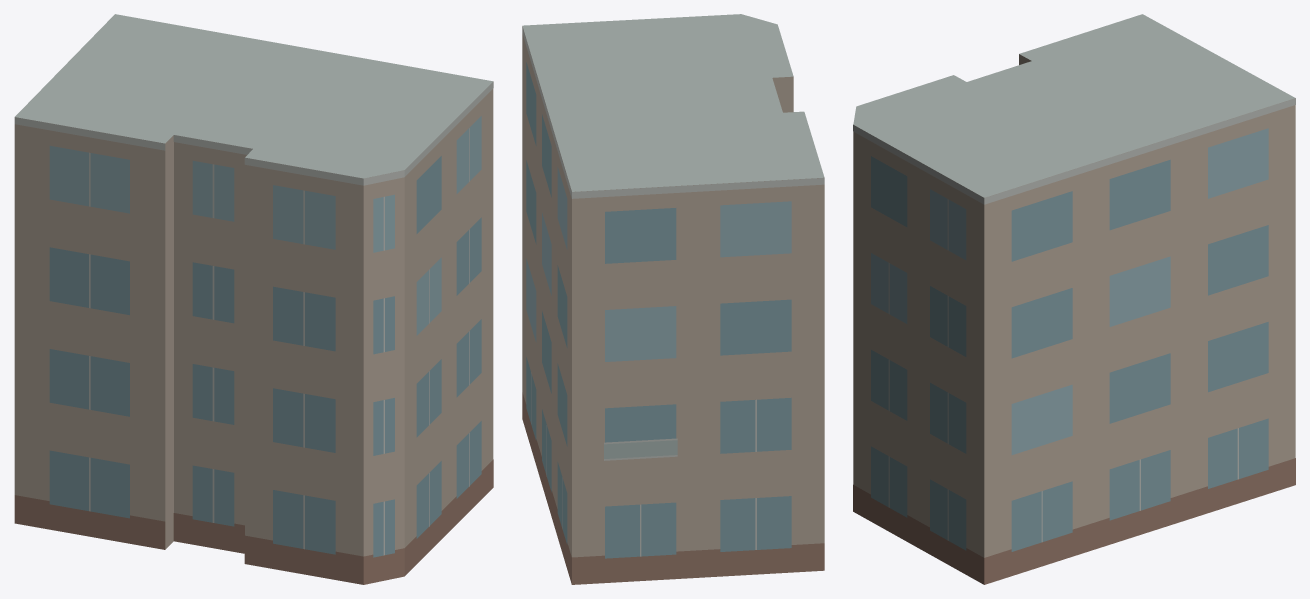
The model's file is survey-upis-32827812.glb.
The picture shows the model from 3 angles, left to right: view 1: azimuth 30°, elevation 25°; view 2: azimuth 150°, elevation 25°; view 3: azimuth 270°, elevation 25°; orthographic projection. The views are drawn at different scales.
Visible parts, largest first — view 1: survey-upis-32827812.tmp; view 2: survey-upis-32827812.tmp; view 3: survey-upis-32827812.tmp.
Boxes of the visible parts, bbox=[...] form: survey-upis-32827812.tmp: bbox=[14, 14, 493, 584]; survey-upis-32827812.tmp: bbox=[522, 14, 824, 584]; survey-upis-32827812.tmp: bbox=[853, 14, 1295, 584].
Size of the model in its own units: 14.07 by 13.8 by 14.31.
